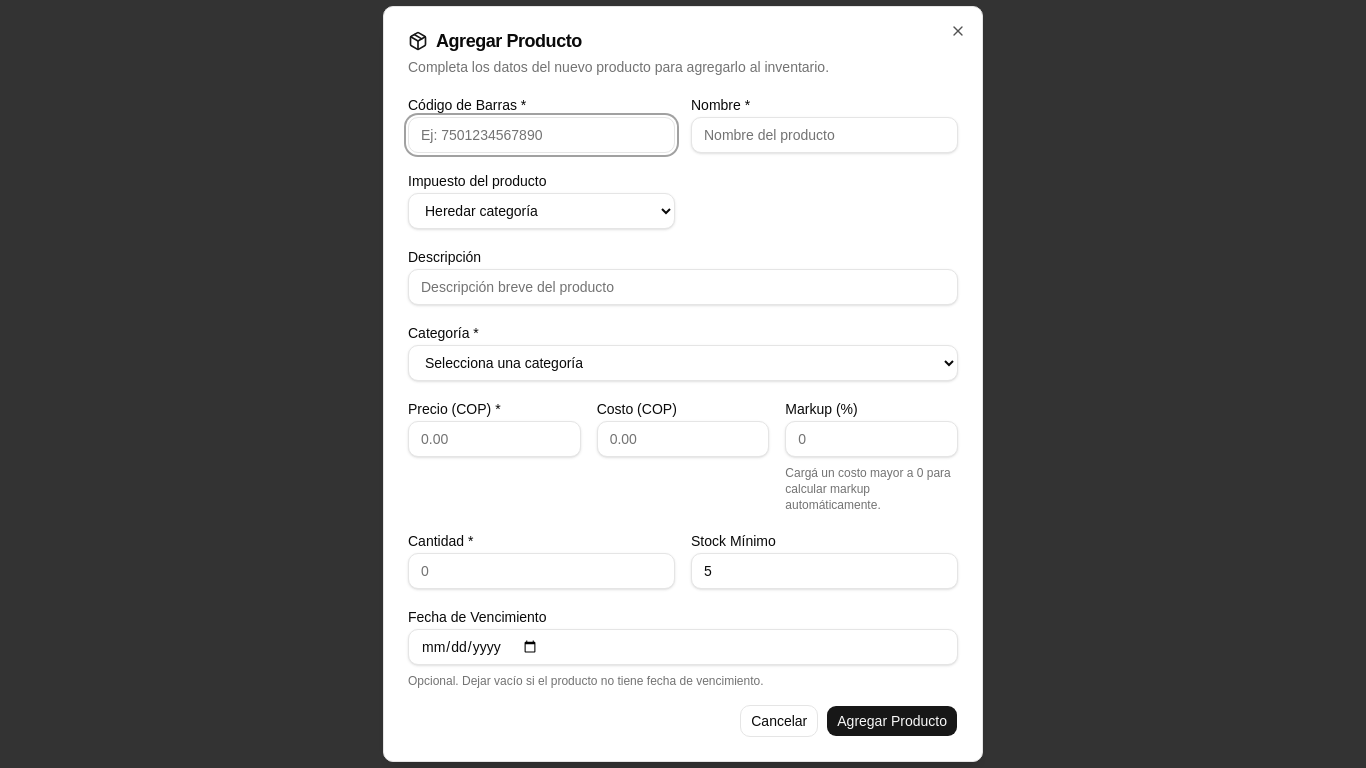
Test case: AddProductDialog — markup UI › recalculates price when cost and markup change
Type "100" into the number field labelled "Costo (COP)". click: (683, 439)
box: [597,421,769,457]
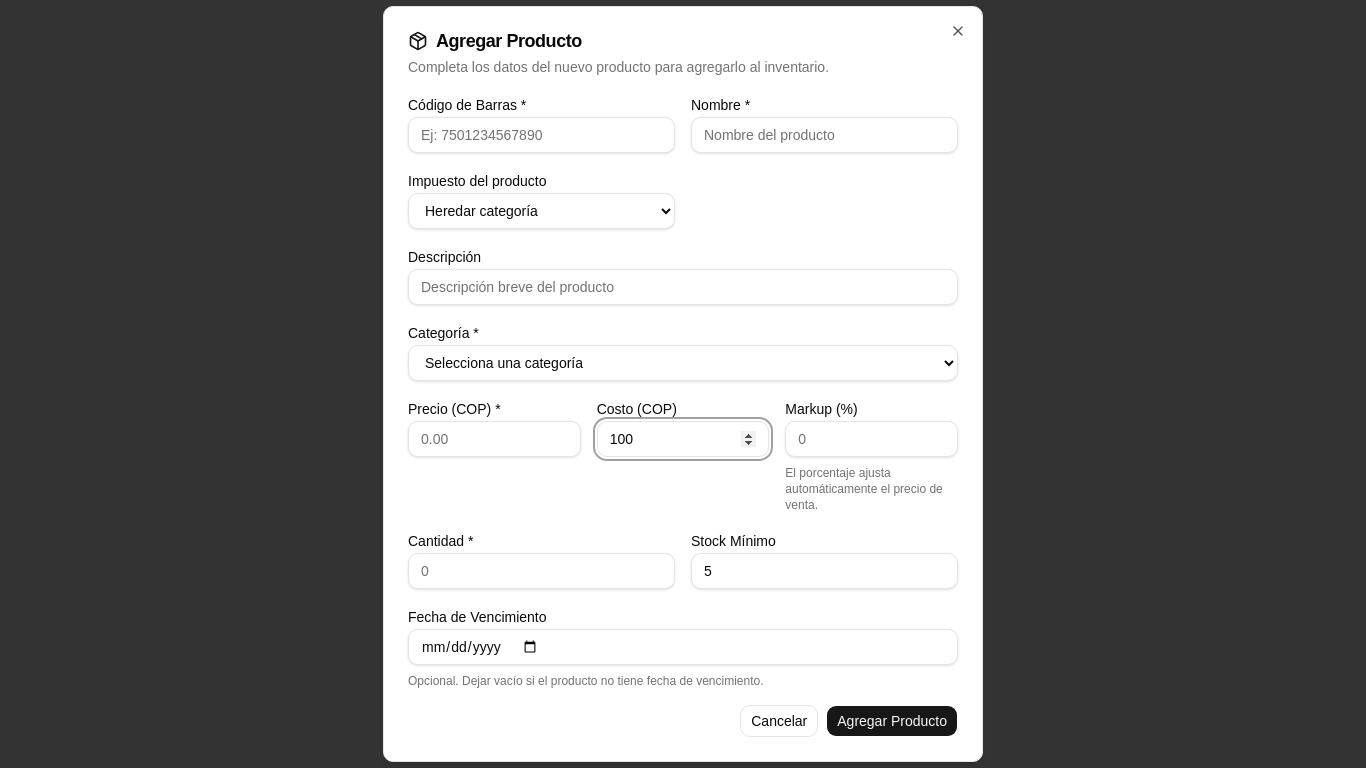
Type "30" into the number field labelled "Markup (%)". click: (872, 439)
box: [785,421,958,457]
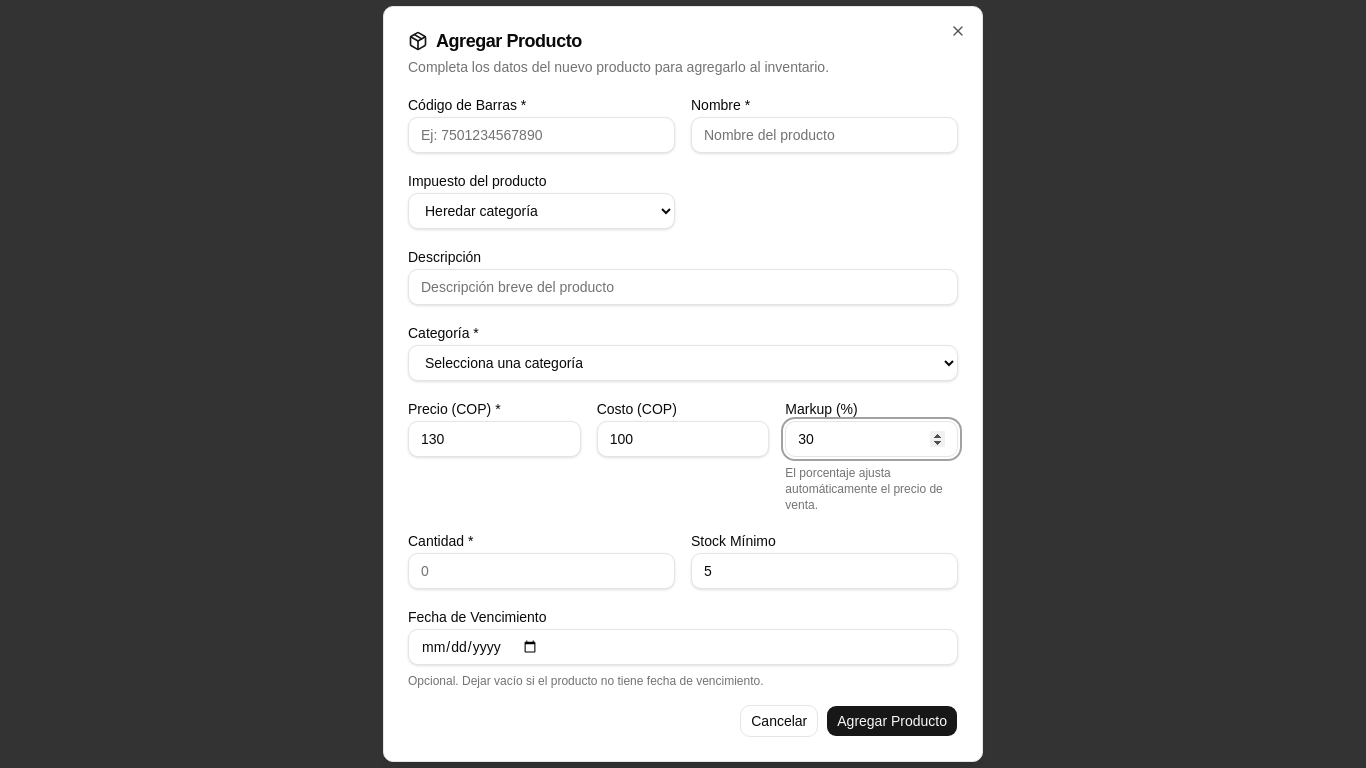
Result: the number field labelled "Precio (COP) *" holds "130" at [408,421,581,457]
